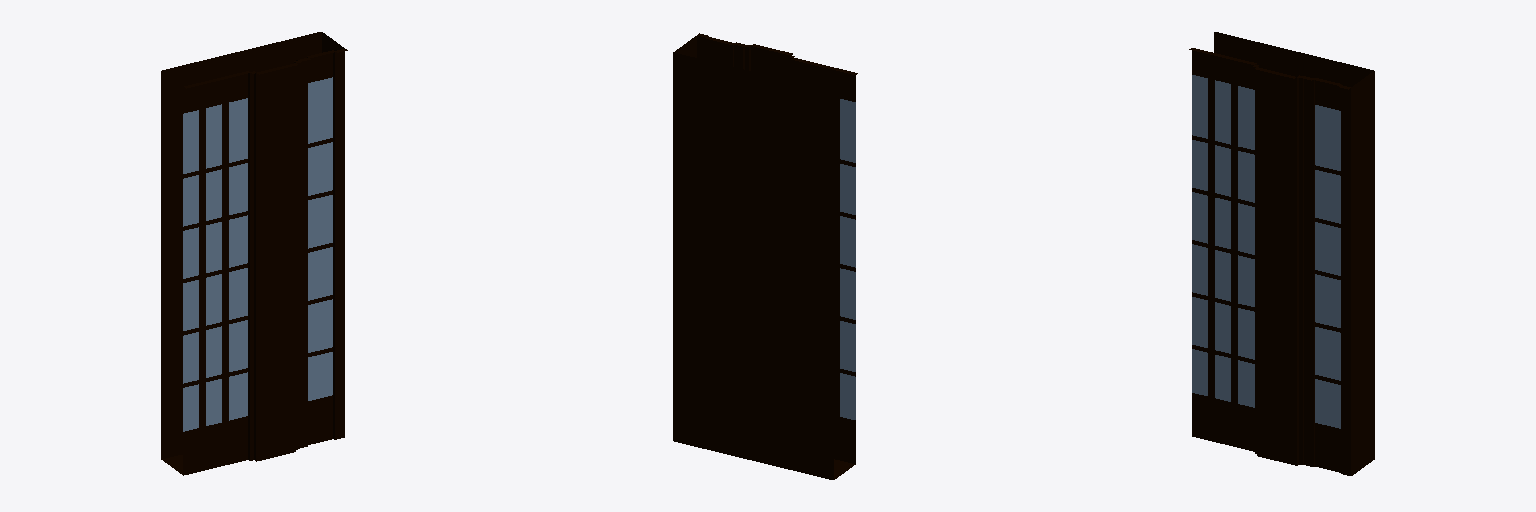
File: MainDoorRight.obj
3 renders of one model, left to right at view 1: azimuth 30°, elevation 25°; view 2: azimuth 150°, elevation 25°; view 3: azimuth 330°, elevation 25°, orthographic.
Visible parts, largest first — view 1: Cube.024; view 2: Cube.024; view 3: Cube.024.
Boxes of the visible parts, <box> form: Cube.024: <box>161,32,347,475</box>; Cube.024: <box>673,33,857,479</box>; Cube.024: <box>1189,32,1374,475</box>.
Bounding box in the file's own units: 1.35 × 3.13 × 0.418.